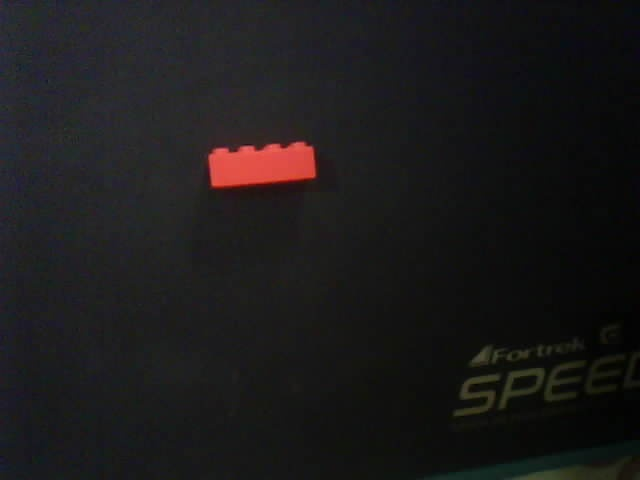lego: (206, 140, 317, 191)
